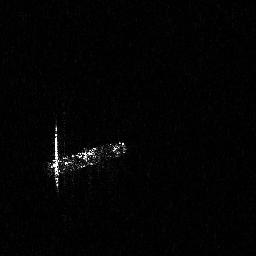ship: (44, 120, 129, 195)
